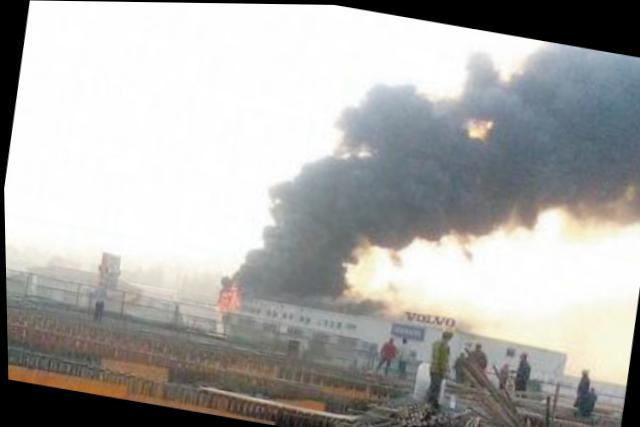fire: (212, 280, 239, 309)
